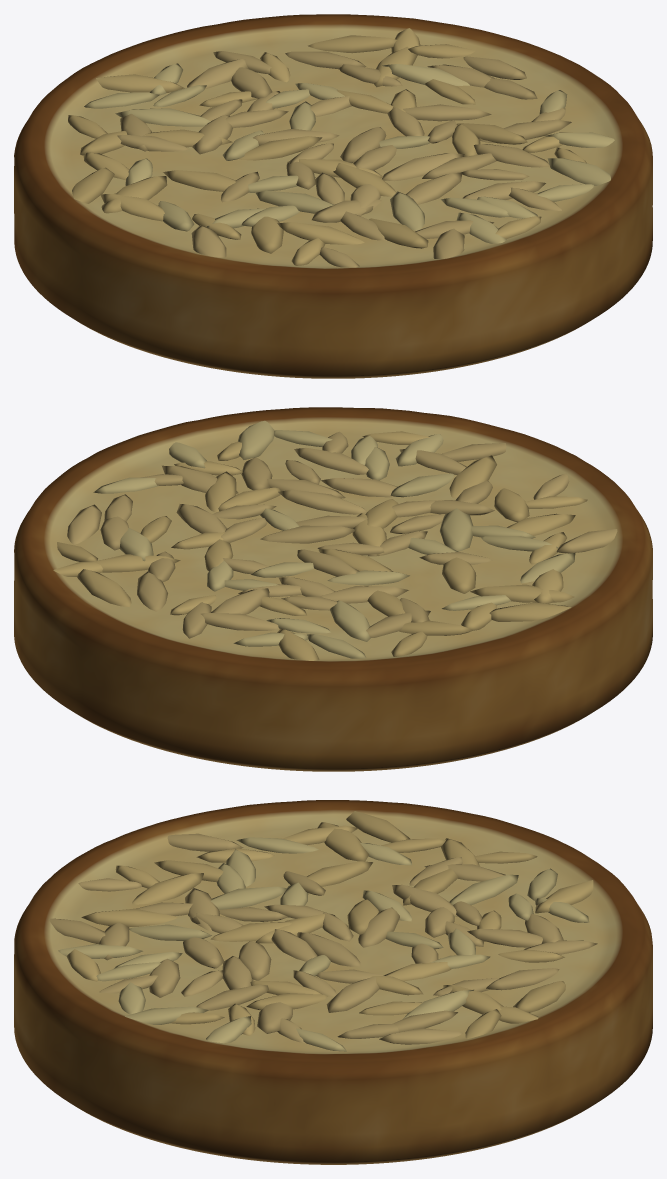
File: apfelkuchen.glb
The picture shows the model from 3 angles, top to bottom: view 1: azimuth 30°, elevation 25°; view 2: azimuth 150°, elevation 25°; view 3: azimuth 270°, elevation 25°; orthographic projection.
Parts seen in each view (by area): view 1: apfelkuchen; view 2: apfelkuchen; view 3: apfelkuchen.
Boxes of the visible parts, x1,y1,x2,y2 form: apfelkuchen: (14,14,652,378); apfelkuchen: (14,407,652,771); apfelkuchen: (14,800,652,1164).
Bounding box in the file's own units: 0.2801 × 0.0513 × 0.2801.
